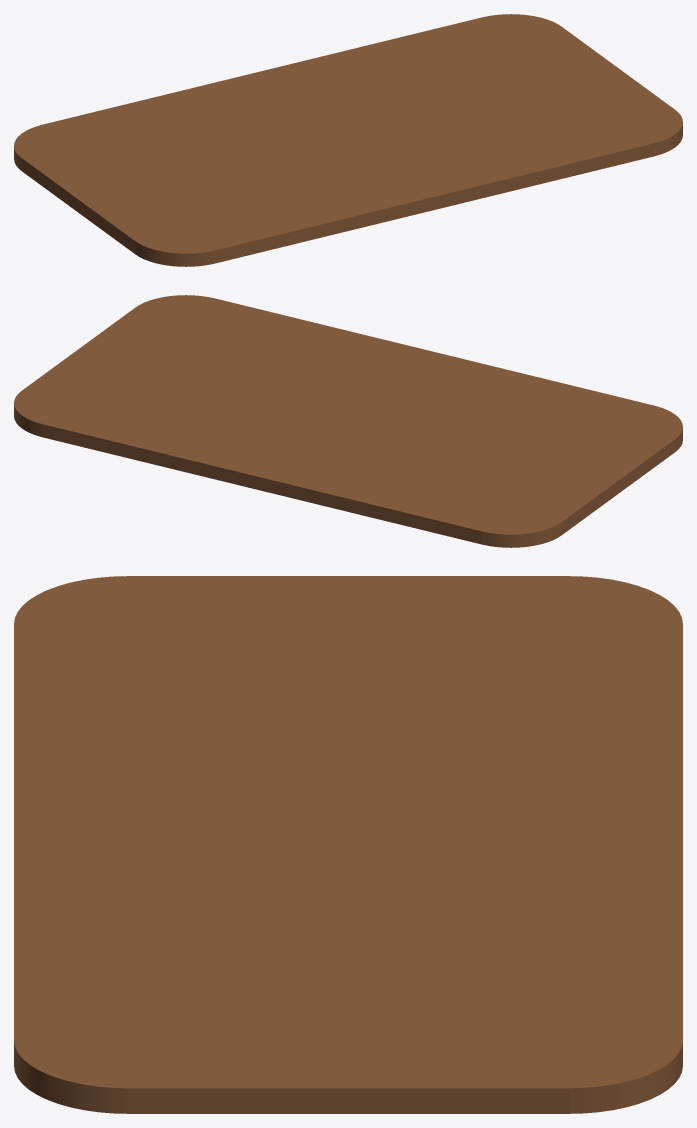
Rendered from m_doormat.glb.
3 views of the same model, one above another, from view 1: azimuth 30°, elevation 25°; view 2: azimuth 150°, elevation 25°; view 3: azimuth 270°, elevation 25° (orthographic). The views are drawn at different scales.
Parts seen in each view (by area): view 1: rugDoormat(Clone); view 2: rugDoormat(Clone); view 3: rugDoormat(Clone).
Boxes of the visible parts, x1=… form: rugDoormat(Clone): x1=14, y1=14, x2=682, y2=266; rugDoormat(Clone): x1=14, y1=295, x2=682, y2=547; rugDoormat(Clone): x1=14, y1=576, x2=682, y2=1113.
Size of the model in its own units: 0.8586 by 0.02 by 0.474.
